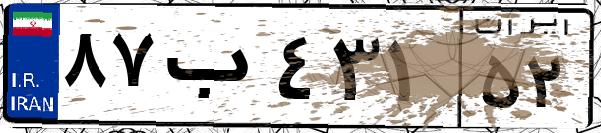1: (385, 28, 445, 110)
2: (525, 38, 570, 115)
3: (330, 28, 385, 110)
4: (270, 28, 330, 110)
5: (475, 38, 525, 113)
7: (110, 28, 158, 98)
8: (57, 26, 110, 100)
ب: (158, 20, 270, 120)
